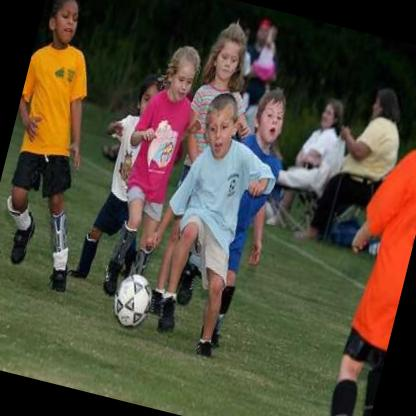ball: (108, 270, 156, 332)
